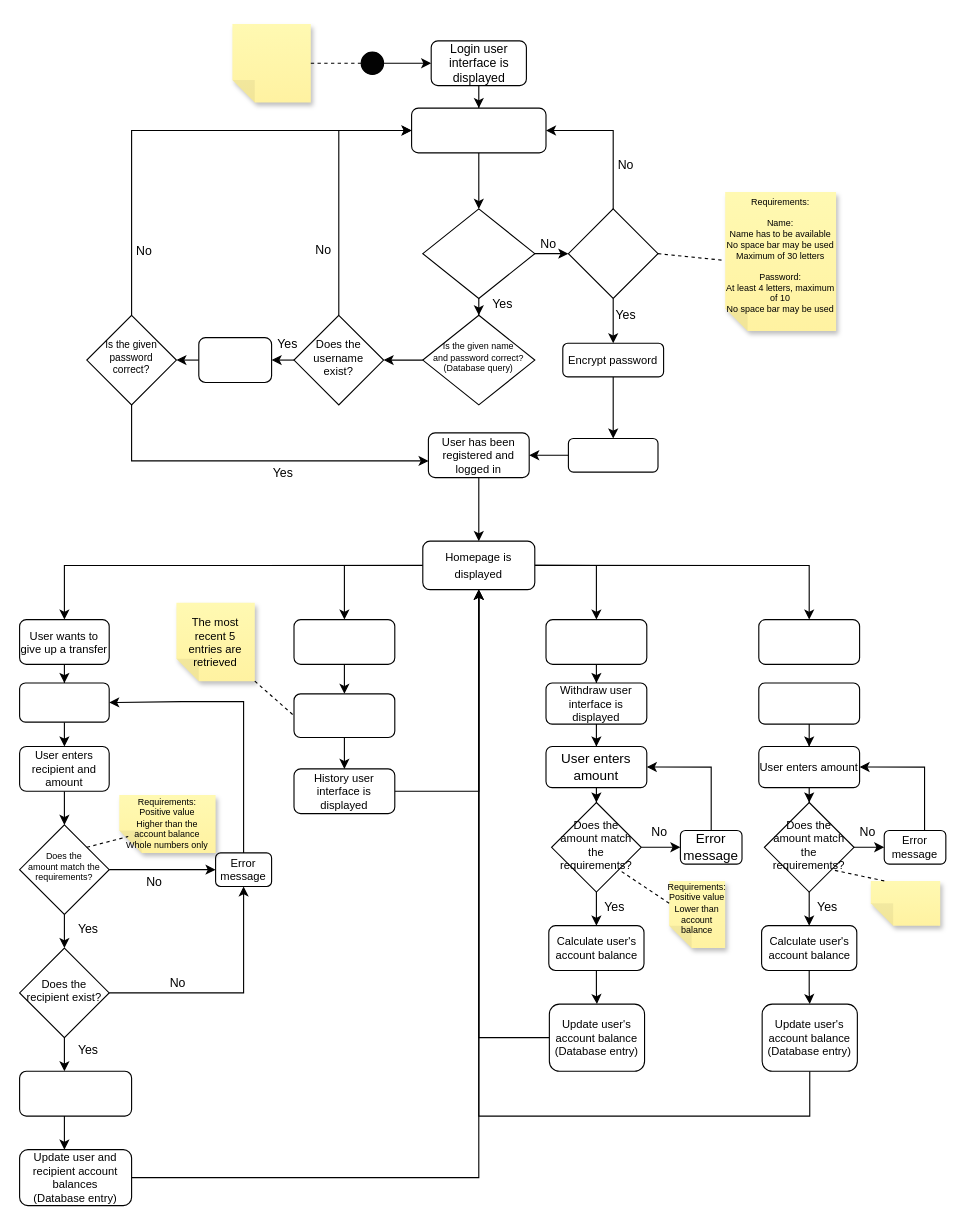
Some shapes in this 967 by 1225 pixel diagram are drawn without their labels. Each missing label, with the centre of its shape:
Already registered?: (478,253)
Calculate user and recipient account balances: (75,1093)
Database entry: (612,454)
Deposit user interface is displayed: (809,703)
Does the name and password match the requirements?: (612,253)
Requirements: Positive value: (906,904)
Retrieve and decrypt password: (235,359)
Transfer user interface is displayed: (63,702)
User enters login name and password: (478,130)
User history is retrieved (Database query): (344,715)
User starts application: (272,64)
User wants to deposit cash: (809,641)
User wants to see history: (344,641)
User wants to withdraw cash: (596,641)
